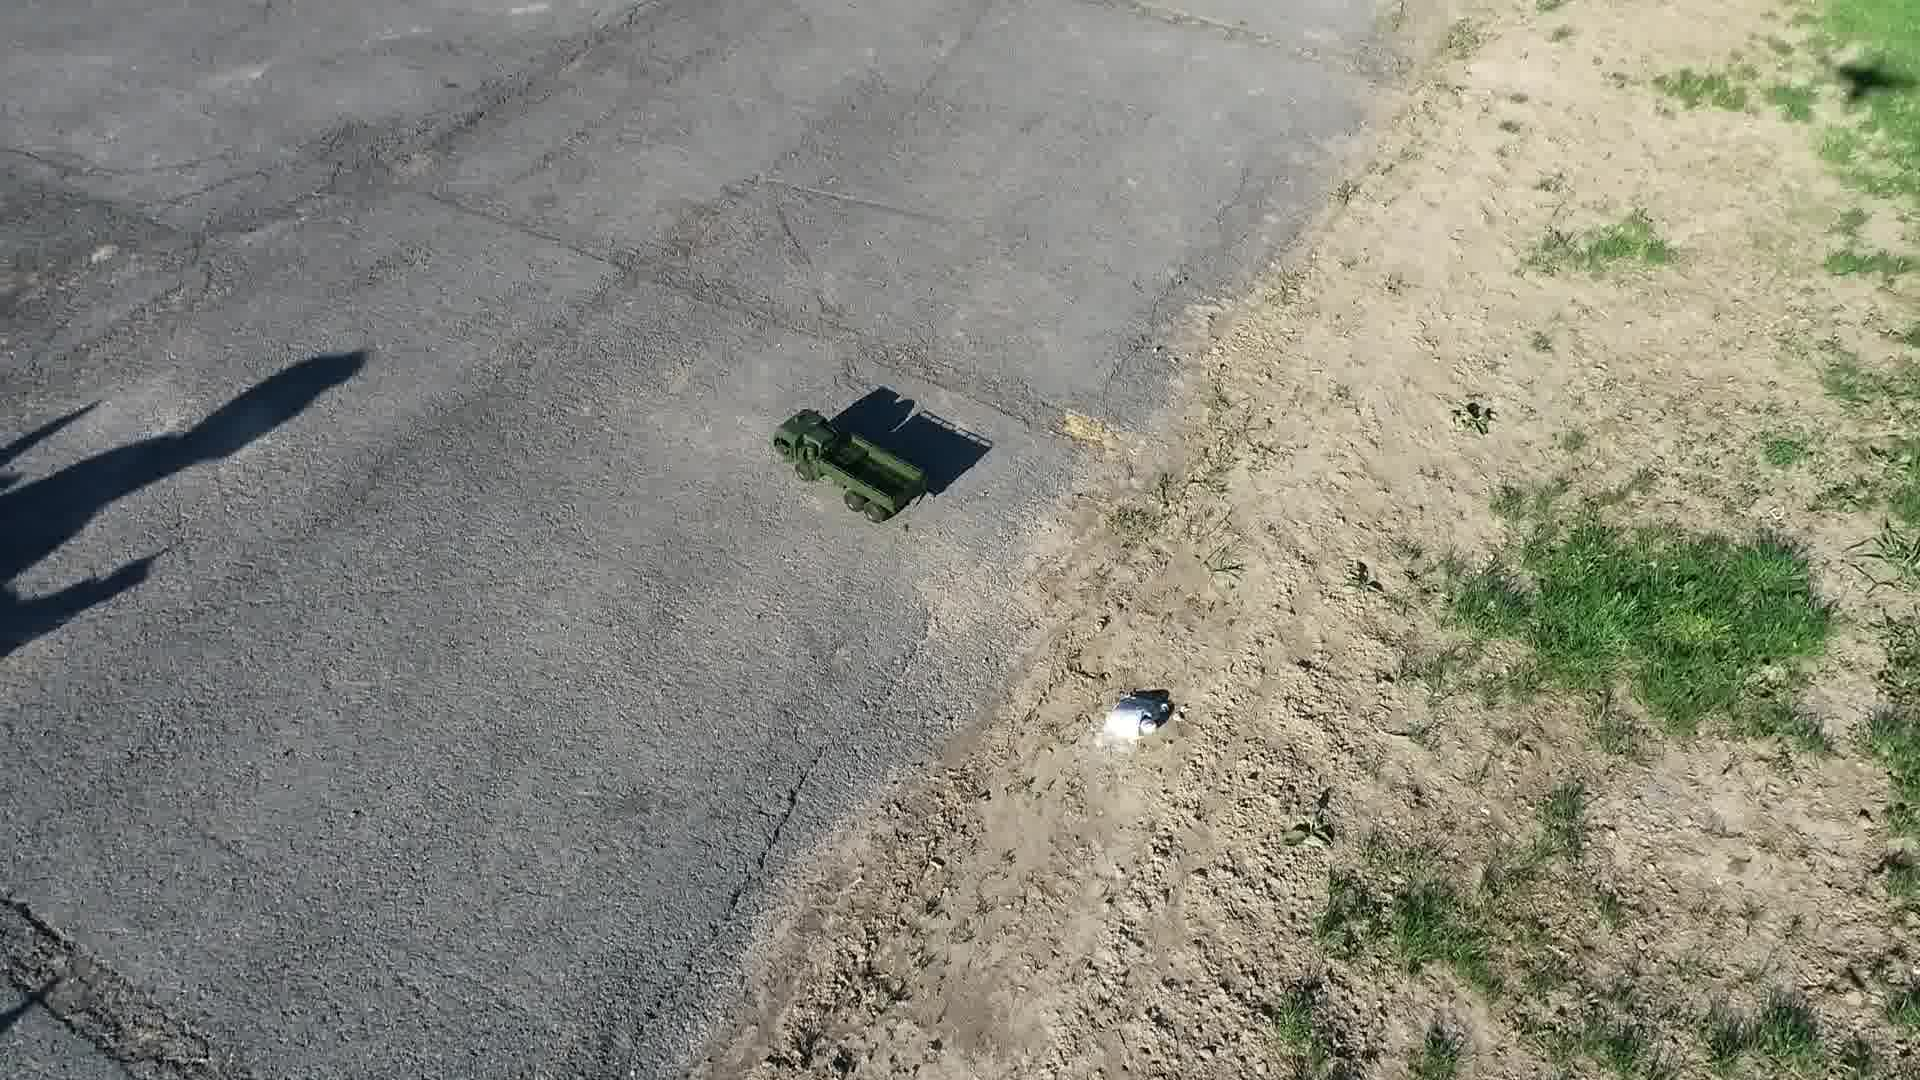transporter9: (766, 400, 938, 529)
